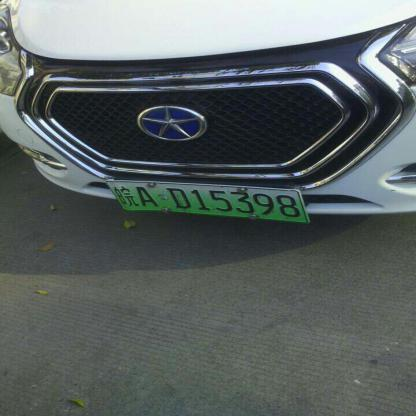lp: (103, 180, 309, 223)
